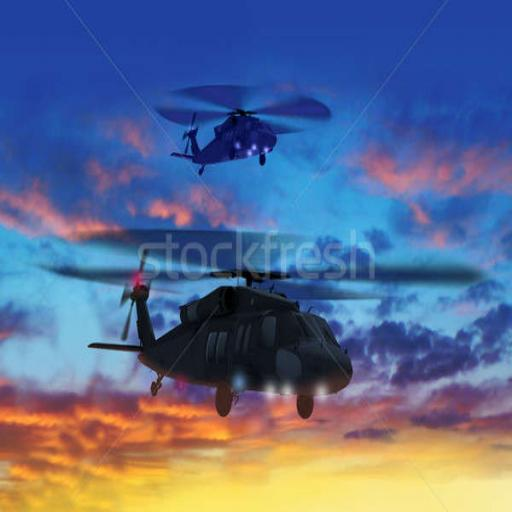helicopter: (99, 252, 354, 425), (146, 76, 344, 166)
